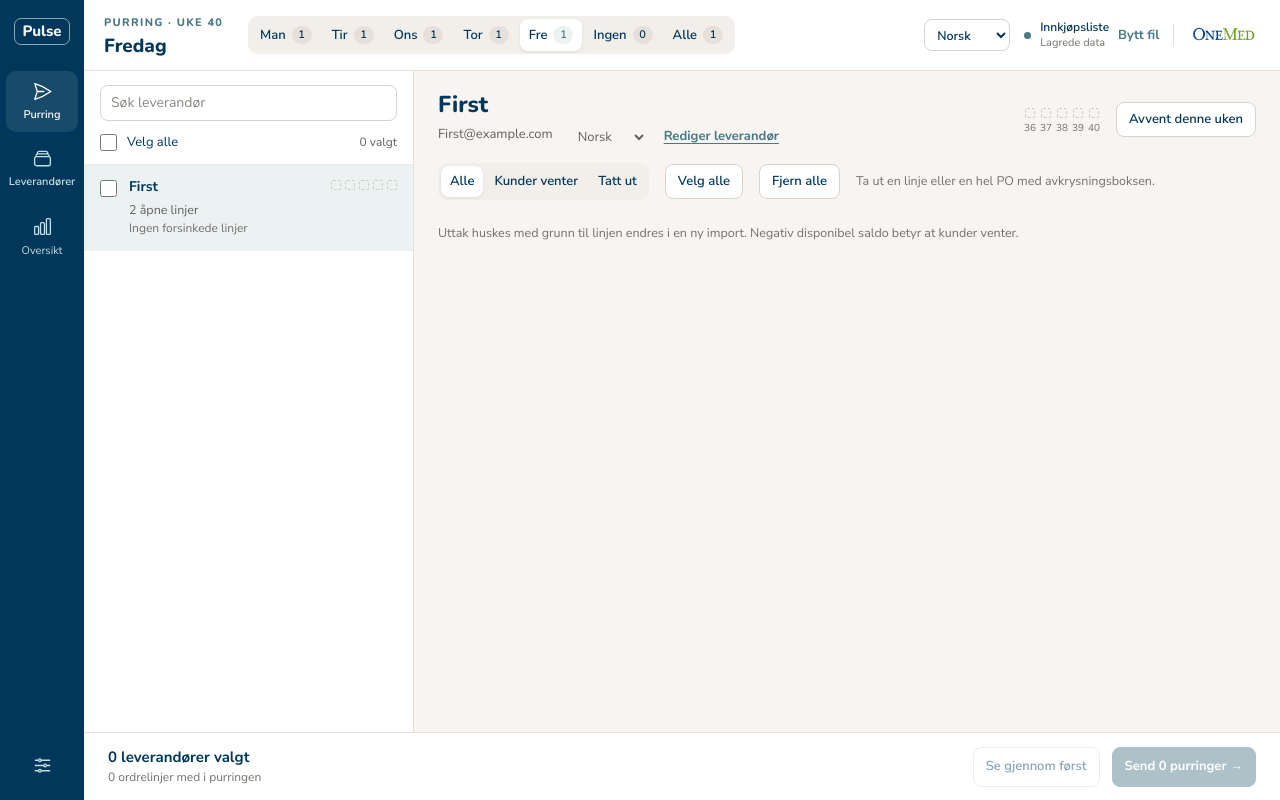
takes out every visible line without overwriting chosen reasons, and brings them all back
What coordinates should you click on to do the following:
click the button "Alle 1"
I would click on:
 (698, 35)
Its box is [664, 19, 732, 51].
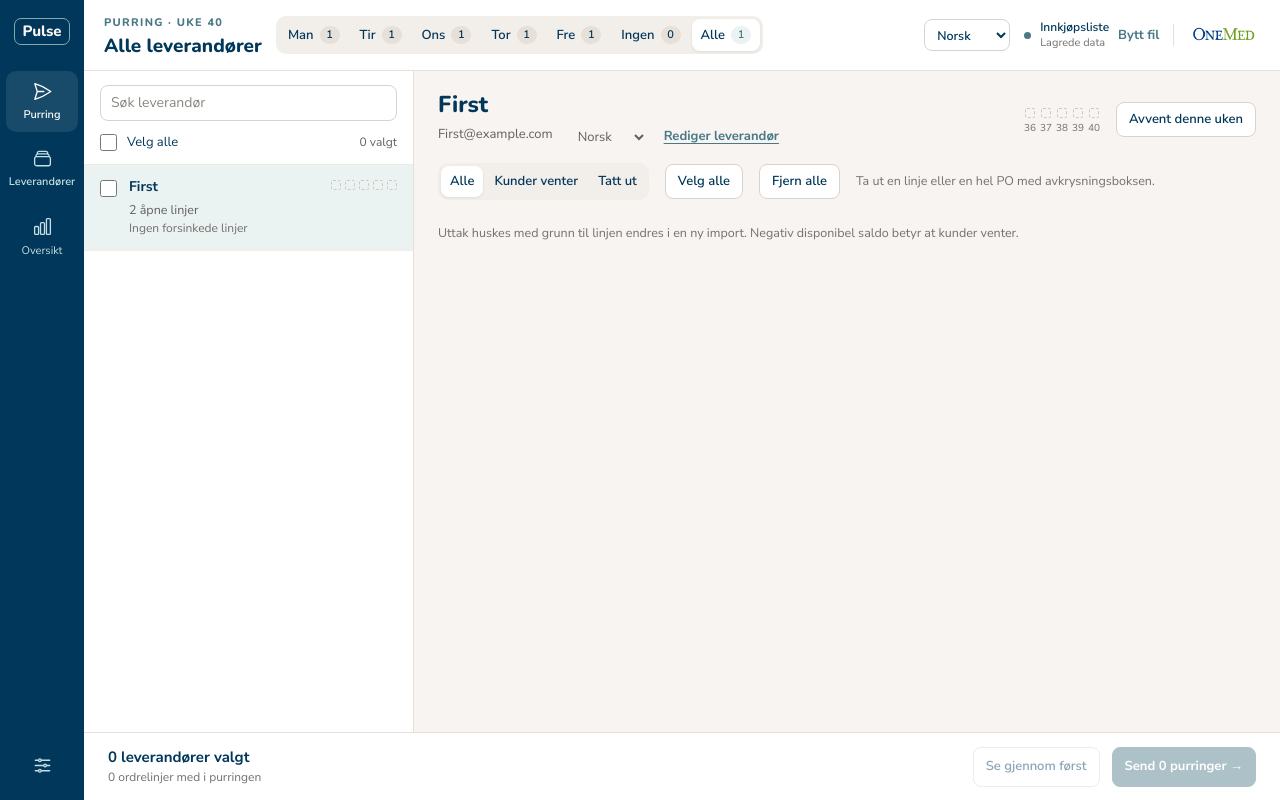
What coordinates should you click on to do the following:
click the button "Fjern alle"
I would click on:
 (800, 181)
Its box is [759, 164, 840, 199].
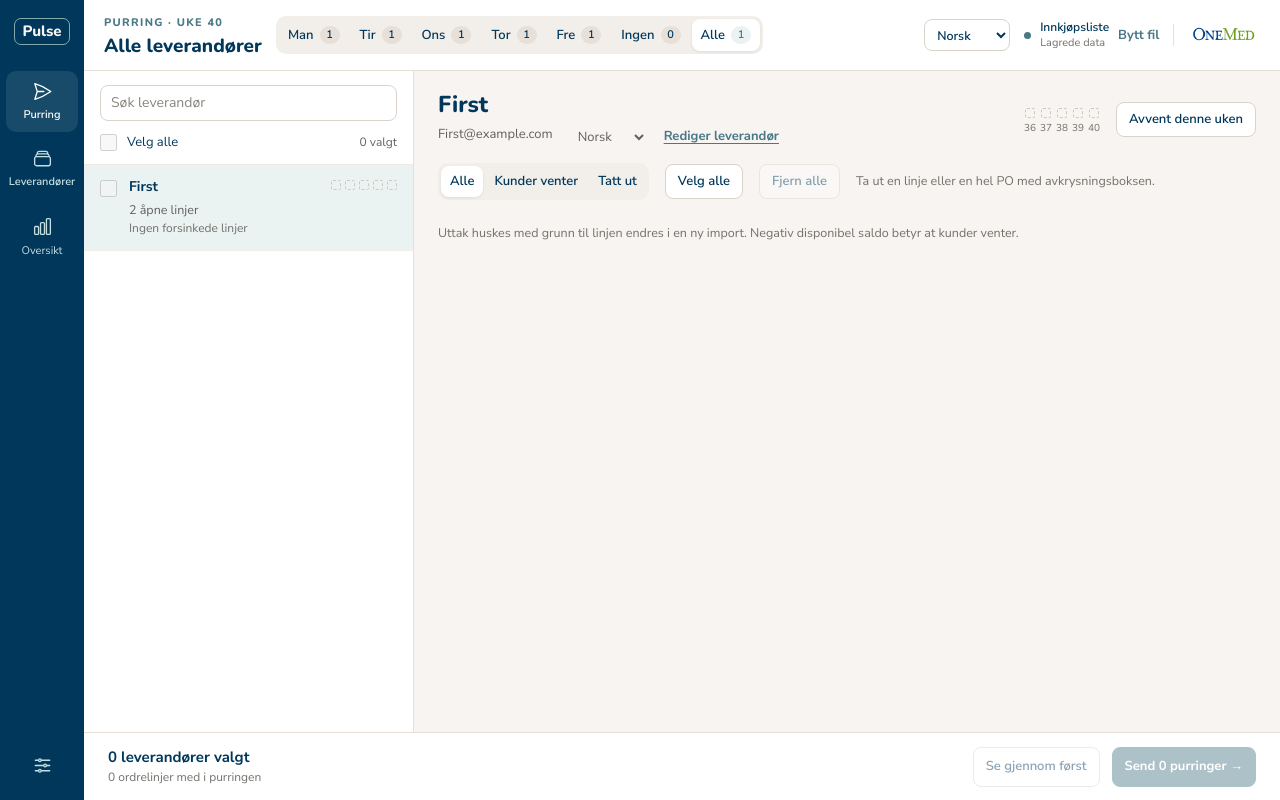
Result: the button "Fjern alle" is disabled at [759, 164, 840, 199]
What coordinates should you click on to do the following:
click the button "Velg alle"
I would click on:
 (704, 181)
Its box is [665, 164, 743, 199].
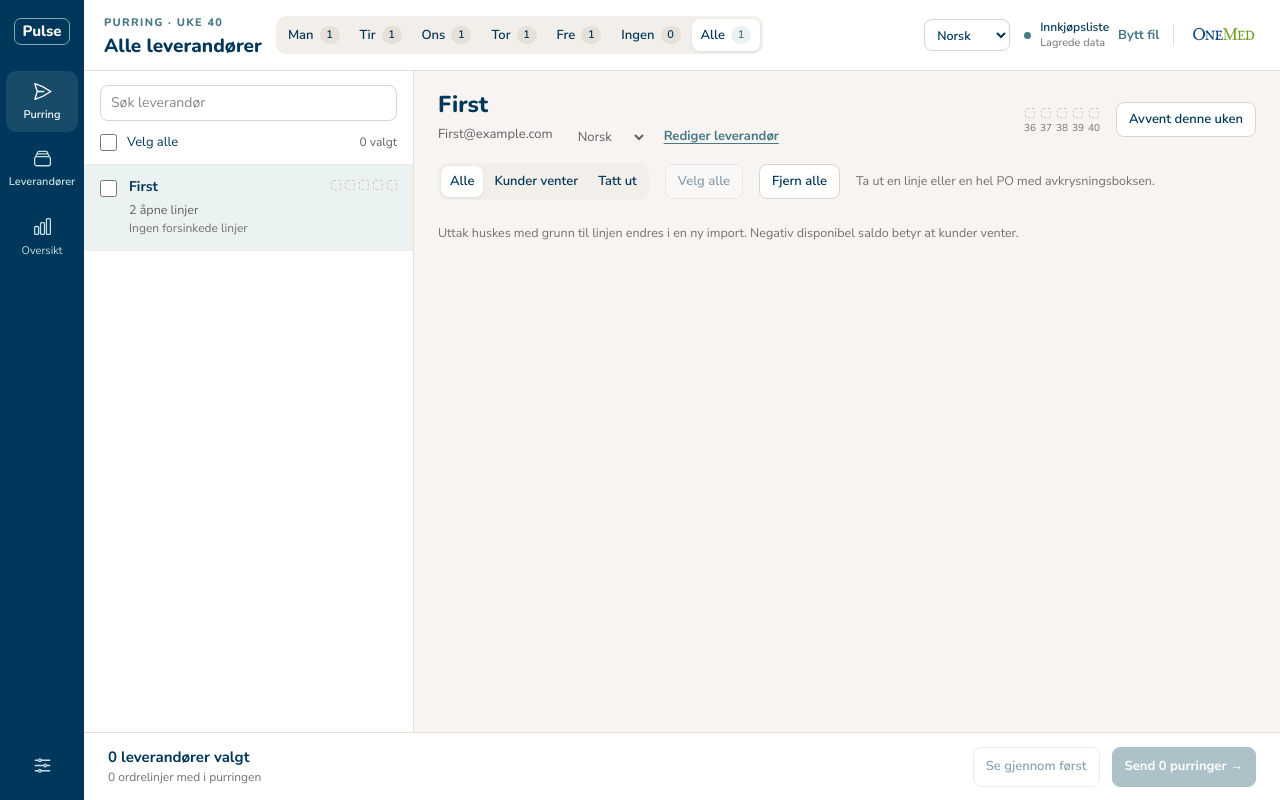
Result: the button "Velg alle" is disabled at [665, 164, 743, 199]
